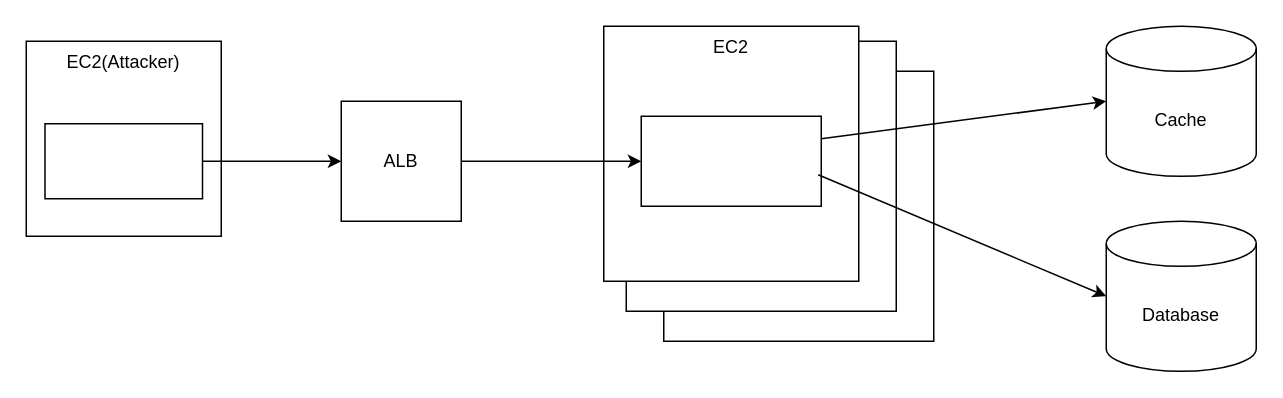
The diagram is 1283 pixels wide and 398 high, and some of its shapes have lost their labels. Here are the shapes that lost their labels. From the top down, the centre of each, then its label:
point 123,160: Gatling
point 730,160: Application Server
